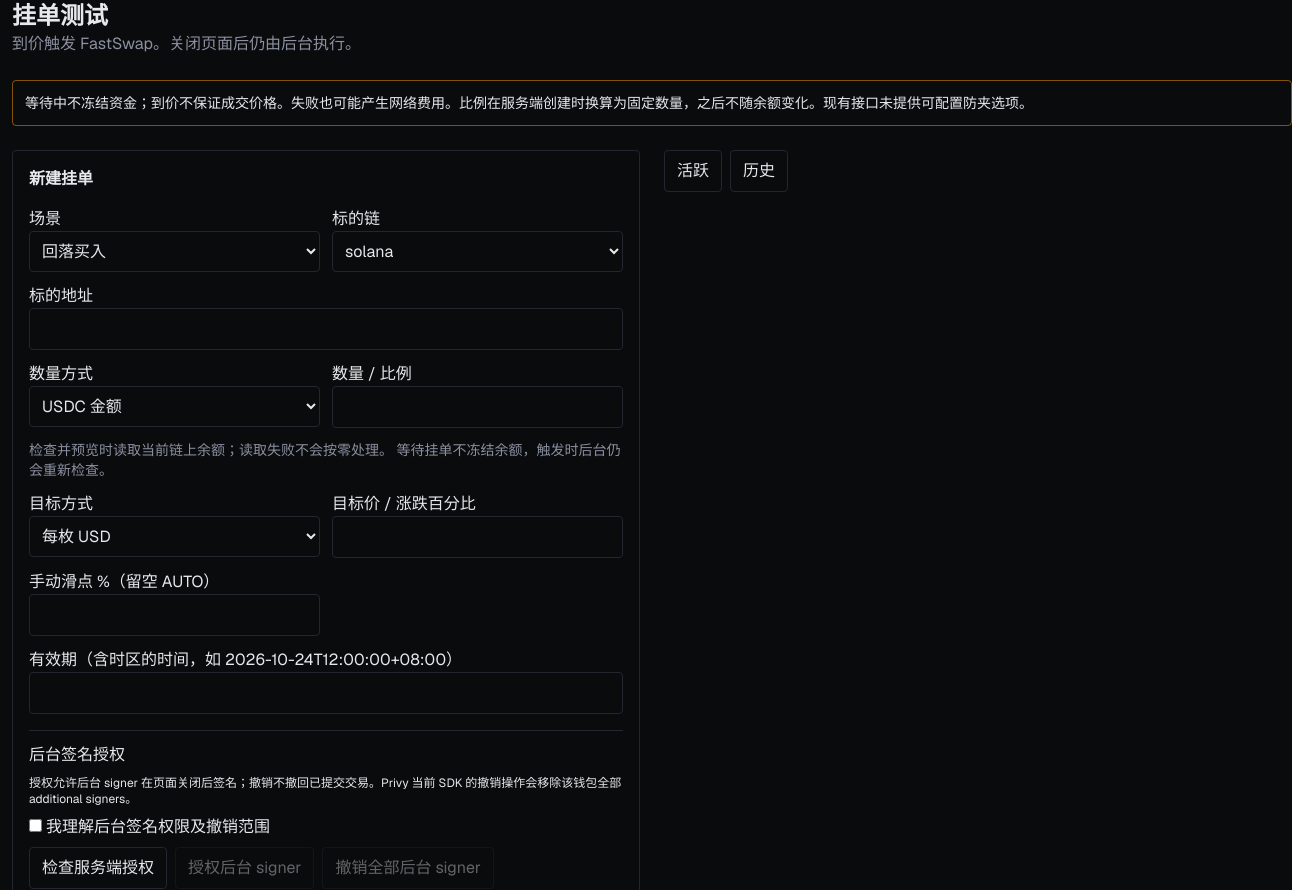
Test case: checks the single order against raw balance: exceeds
Type "So11111111111111111111111111111111111111112" into the field labelled "标的地址" at (326, 329), box [29,308,623,350]
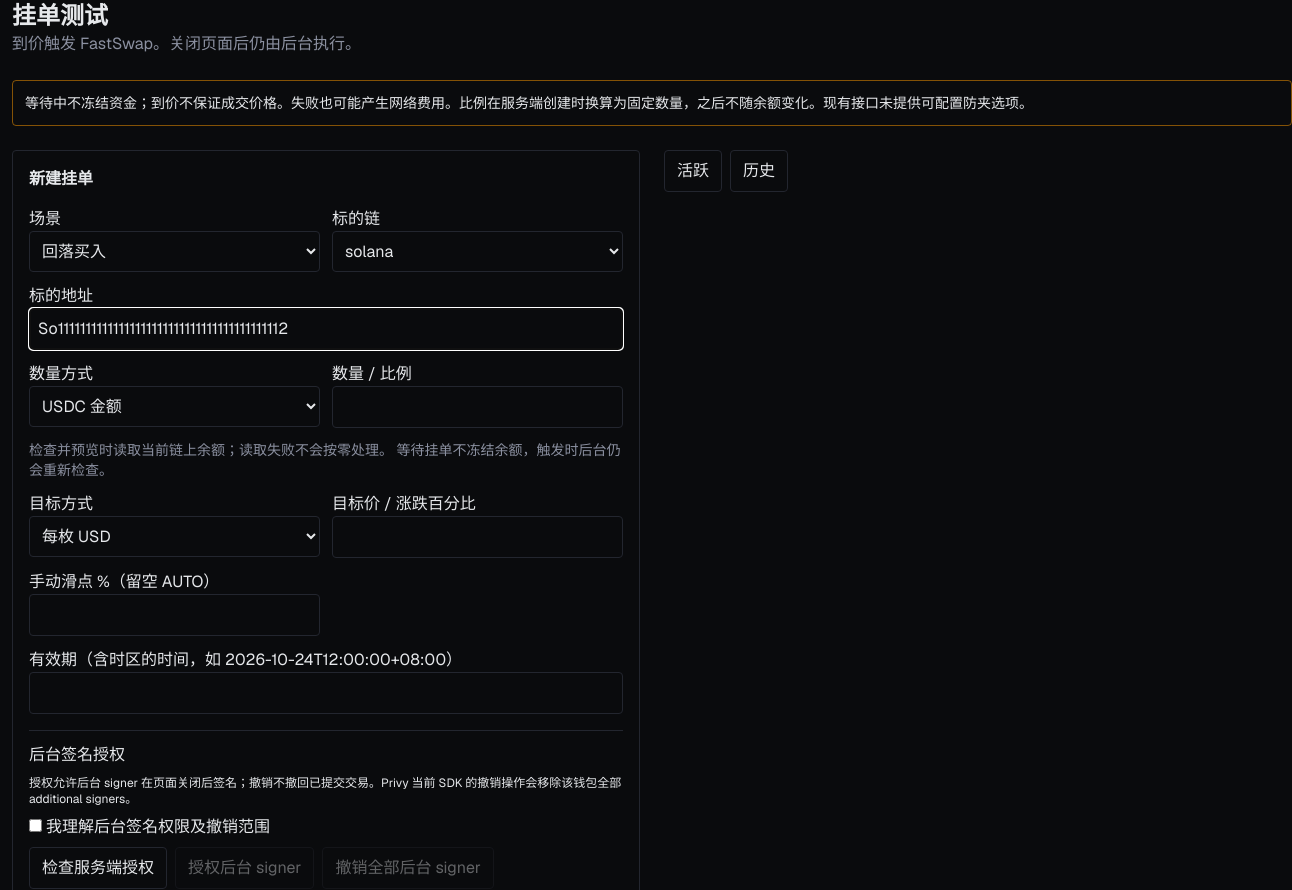
Type "1" into the field labelled "数量 / 比例" at (478, 407), box [332,386,623,428]
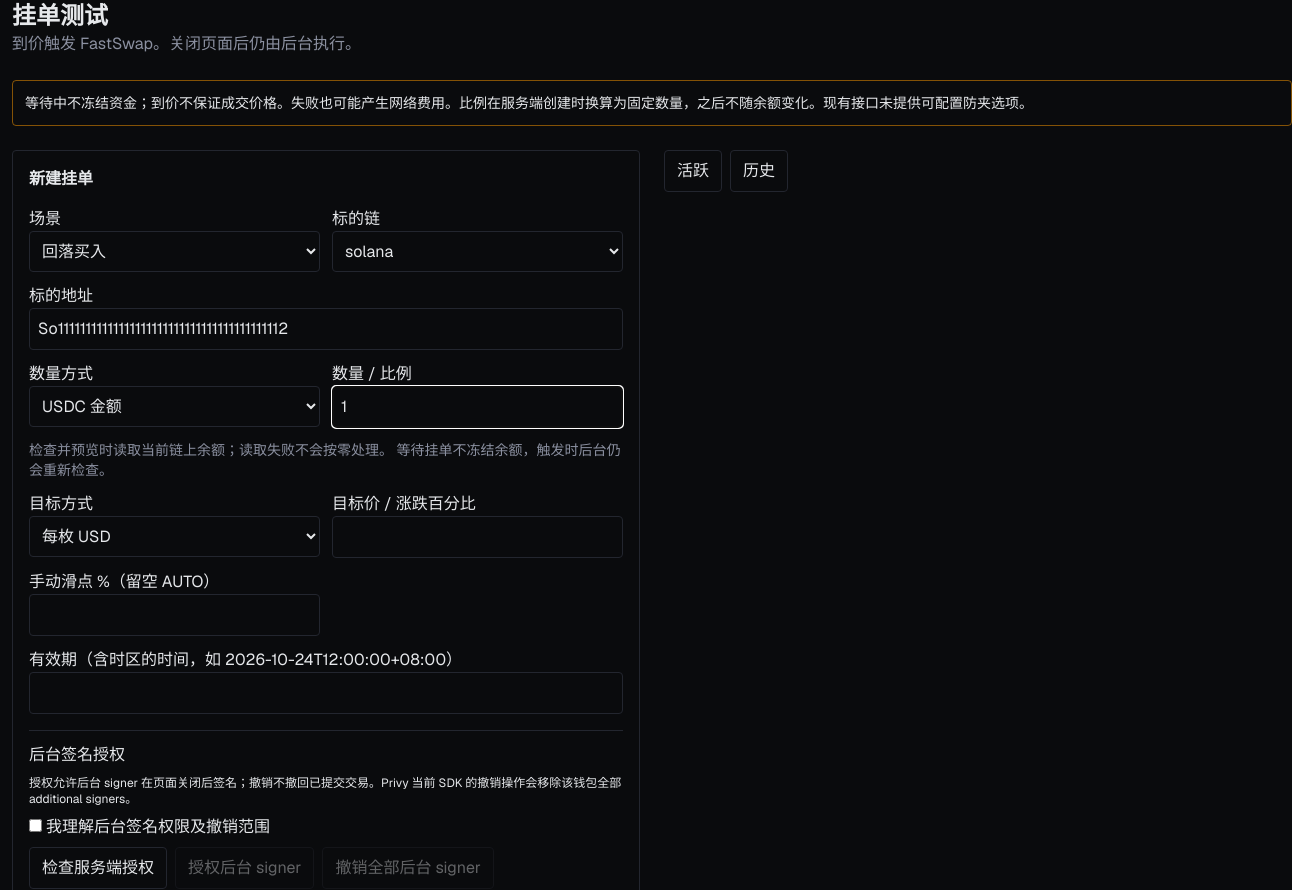
Type "2" into the field labelled "目标价 / 涨跌百分比" at (478, 537), box [332,516,623,558]
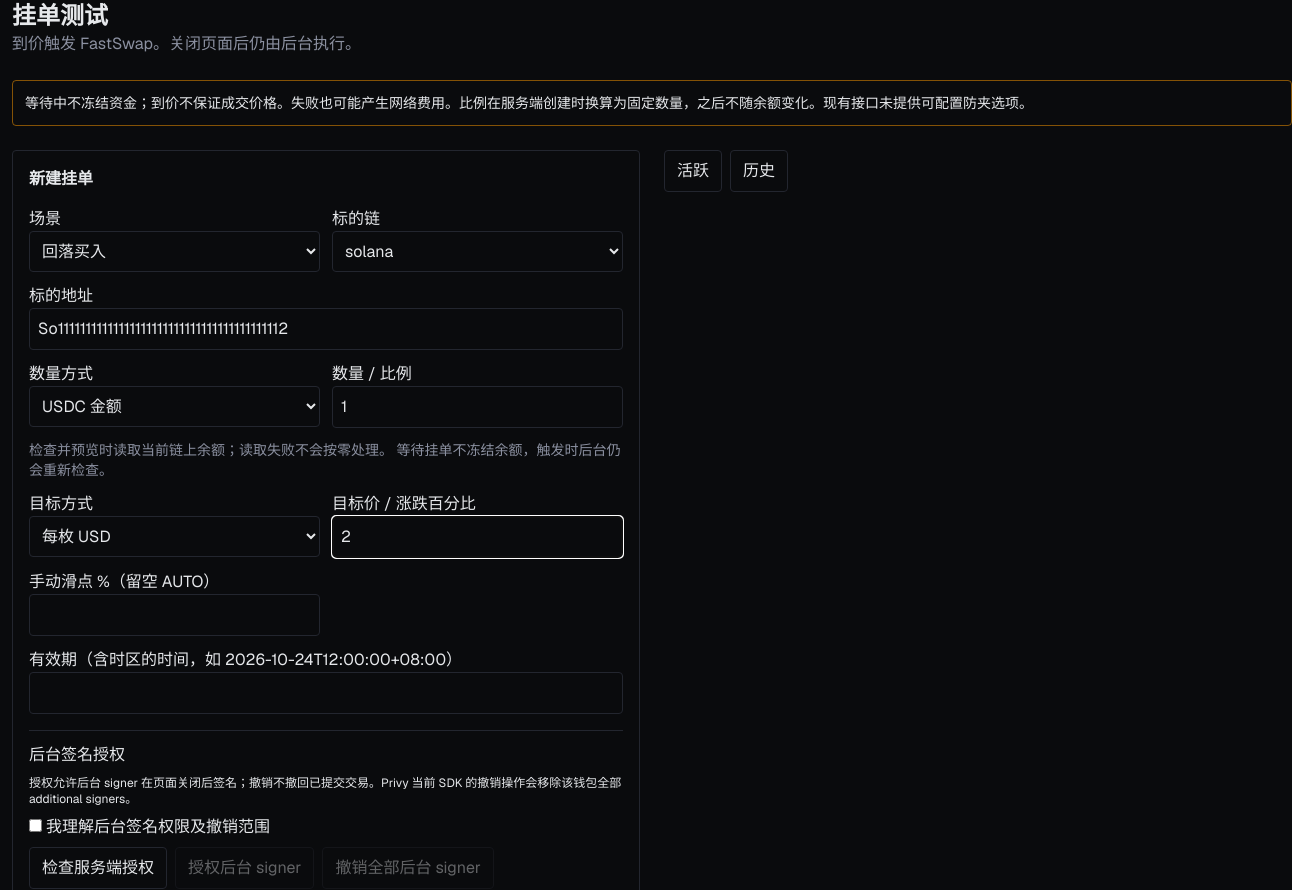
Type "2030-01-01T00:00:00Z" into the field labelled "有效期（含时区的时间，如 2026-10-24T12:00:00+08:00）" at (326, 693), box [29,672,623,714]
(page scrolled)
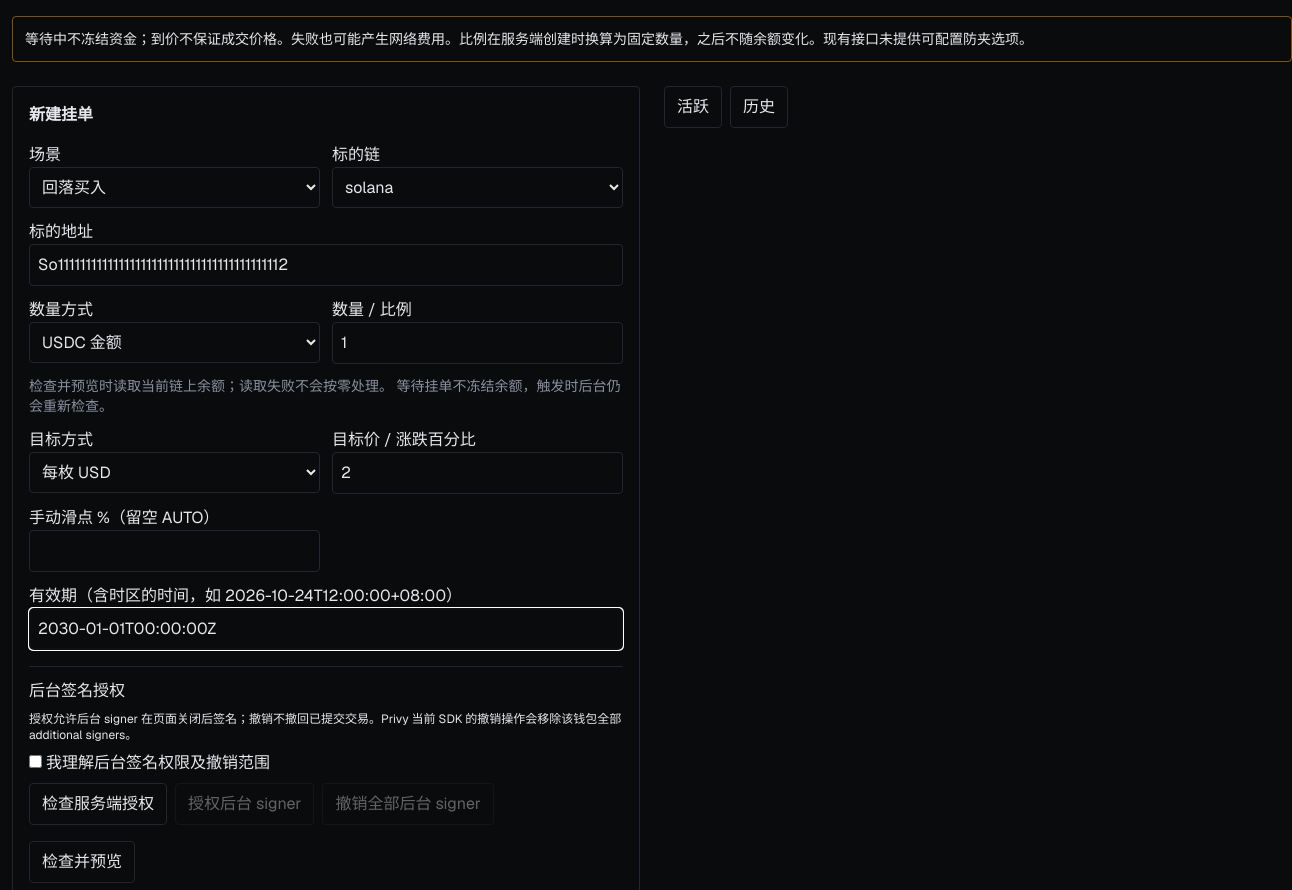
Click the button "检查并预览" at (82, 862), box [29,841,135,883]
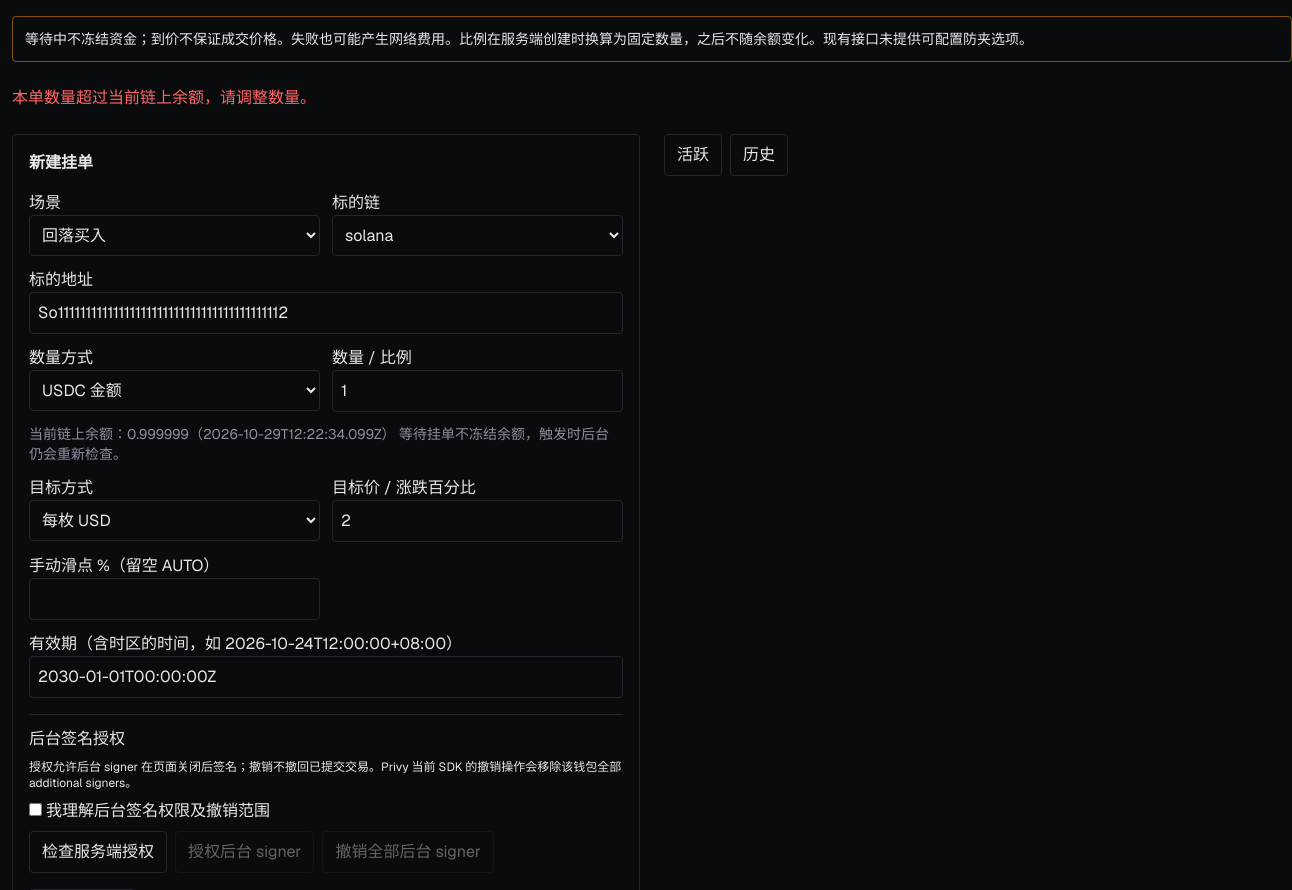
Expected: the message shows "超过当前链上余额", [12,87,316,108]
